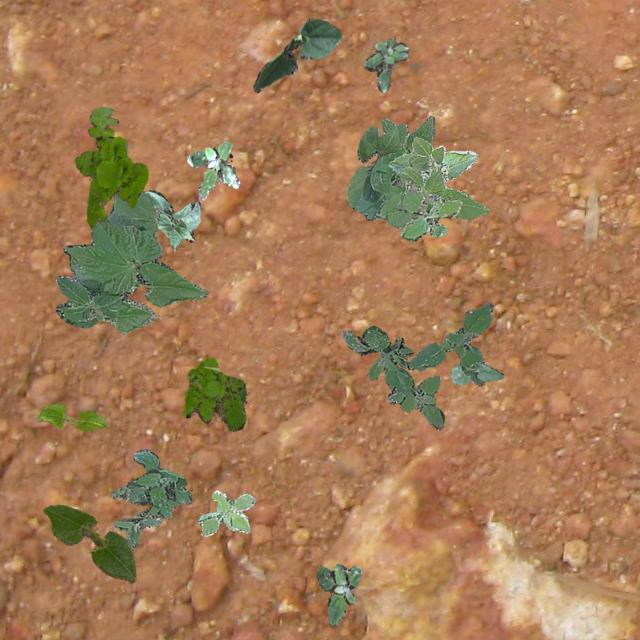crop: (54, 190, 208, 332), (373, 136, 488, 228), (346, 114, 434, 220), (42, 504, 134, 582), (252, 18, 340, 92), (146, 188, 200, 250), (36, 400, 106, 430), (450, 361, 502, 384)
weed: (339, 302, 492, 428), (74, 106, 148, 226), (110, 448, 190, 548), (182, 356, 246, 431), (396, 180, 462, 240), (186, 140, 238, 198), (316, 562, 360, 626), (198, 490, 255, 536), (363, 36, 408, 90)
